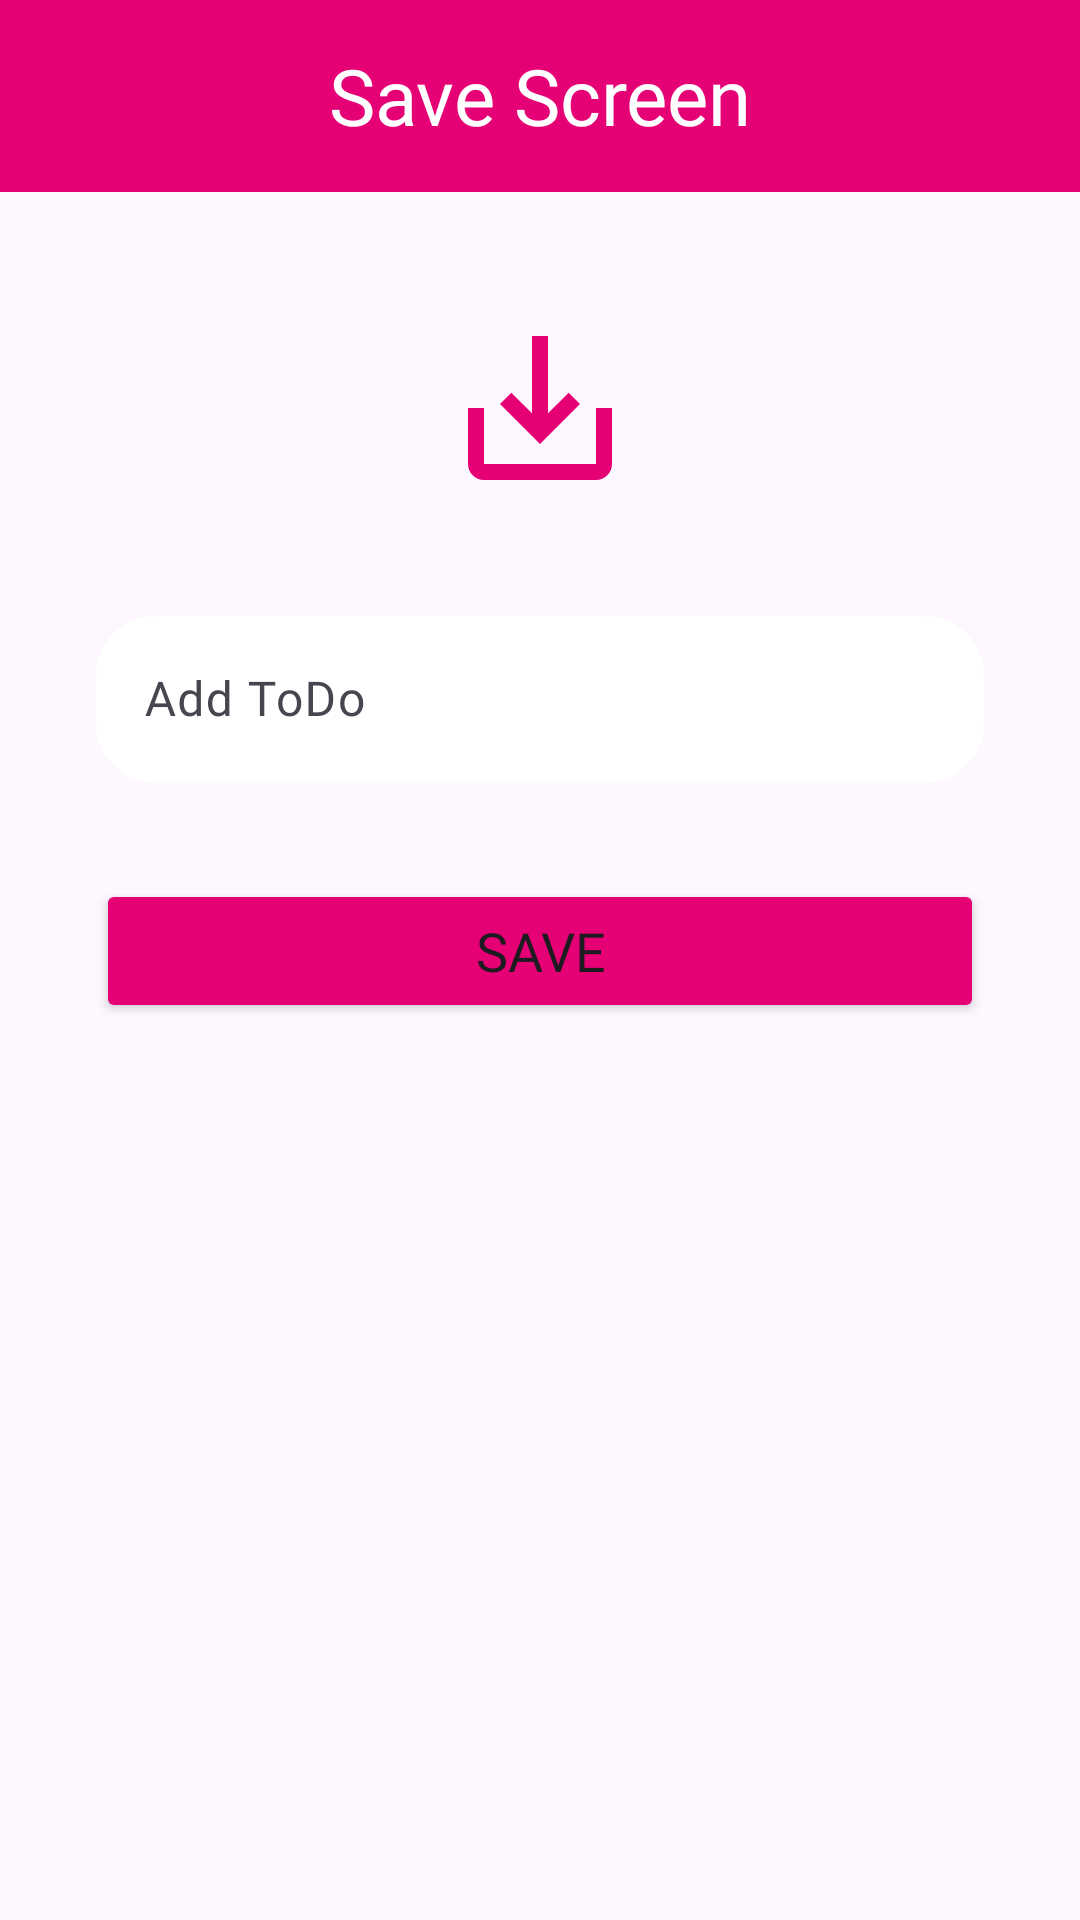

Where to tap for icons on this 1080×1920 app screen, as (x=x, y=y):
save: (x=540, y=408)
